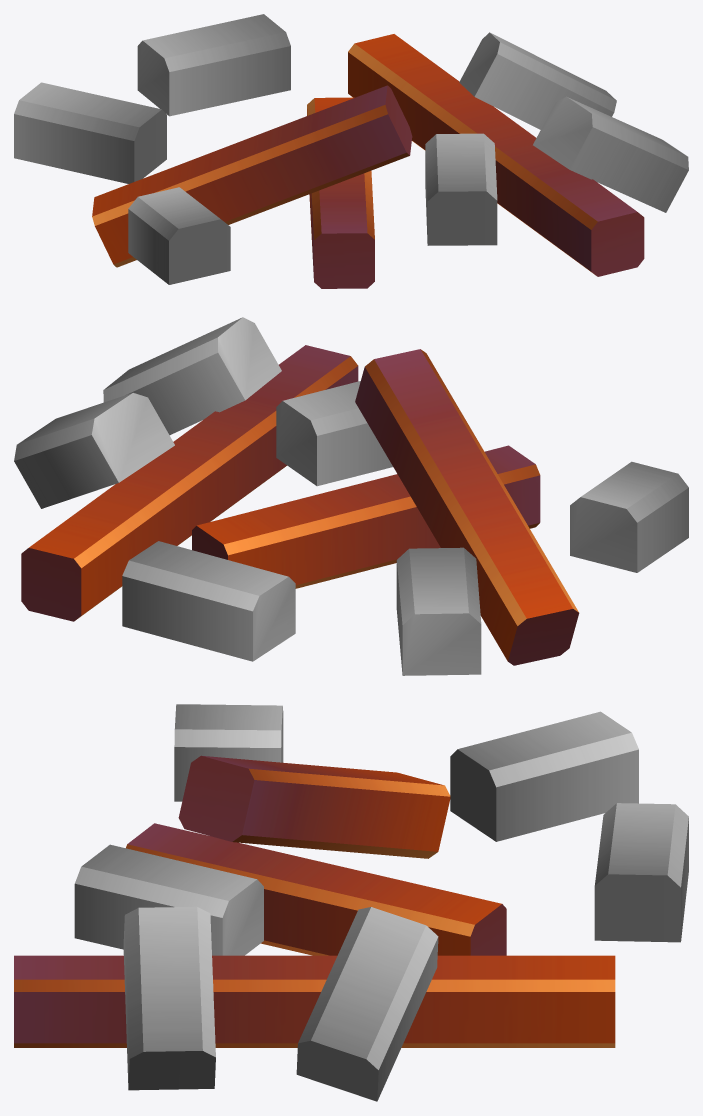
File: Broken_Building.fbx
3 renders of one model, top to bottom at view 1: azimuth 30°, elevation 25°; view 2: azimuth 150°, elevation 25°; view 3: azimuth 270°, elevation 25°, orthographic. The views are drawn at different scales.
Visible parts, largest first — view 1: BrokenBuilding; view 2: BrokenBuilding; view 3: BrokenBuilding.
Part boxes in pixels (bbox=[...]): BrokenBuilding: bbox=[14, 14, 688, 288]; BrokenBuilding: bbox=[14, 317, 688, 675]; BrokenBuilding: bbox=[14, 704, 688, 1101].
Size of the model in its own units: 0.9425 by 0.2953 by 0.8678.
1 material, 1 textured.
